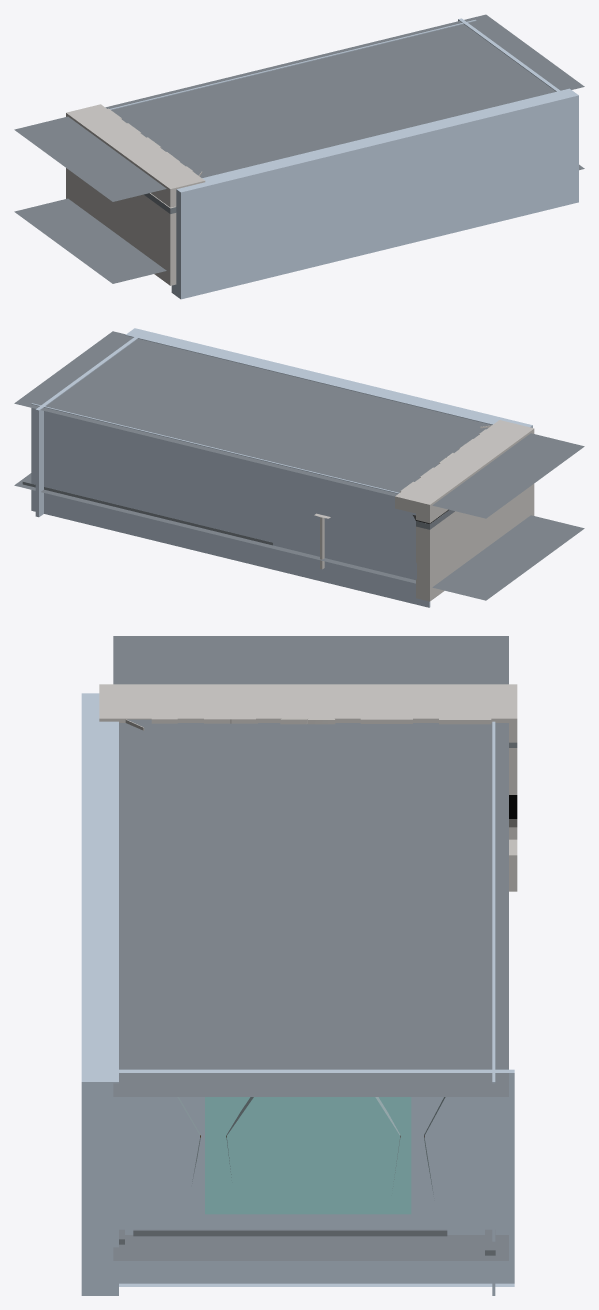
Rendered from Casa 2.fbx.
The picture shows the model from 3 angles, top to bottom: view 1: azimuth 30°, elevation 25°; view 2: azimuth 150°, elevation 25°; view 3: azimuth 270°, elevation 25°; orthographic projection. The views are drawn at different scales.
Visible parts, largest first — view 1: Cube.003, Plane.001, Cube.017, Plane, Cube.006, Cube.010; view 2: Plane.001, Cube.006, Cube.017, Plane, Cube.003, Cube.010, Cube.011; view 3: Plane.001, Cube.010, Cube.003, Cube.017, Plane, Cube.013, Cube.006.
Boxes of the visible parts, box(x1,y1,x2,y2) form: Cube.003: box(171, 88, 578, 299); Plane.001: box(14, 14, 584, 201); Cube.017: box(66, 104, 205, 285); Plane: box(14, 164, 584, 283); Cube.006: box(110, 19, 476, 109); Cube.010: box(458, 18, 564, 94); Plane.001: box(14, 331, 584, 518); Cube.006: box(31, 403, 430, 607); Cube.017: box(395, 420, 534, 601); Plane: box(14, 473, 584, 600); Cube.003: box(125, 328, 532, 427); Cube.010: box(35, 334, 141, 517); Cube.011: box(22, 480, 273, 545); Plane.001: box(113, 636, 508, 1096); Cube.010: box(101, 1069, 514, 1286); Cube.003: box(81, 693, 118, 1295); Cube.017: box(99, 684, 517, 891); Plane: box(113, 1235, 508, 1260); Cube.013: box(133, 1229, 447, 1236); Cube.006: box(492, 721, 495, 1295).
Bounding box in the file's own units: 6759 × 1485 × 2701.
